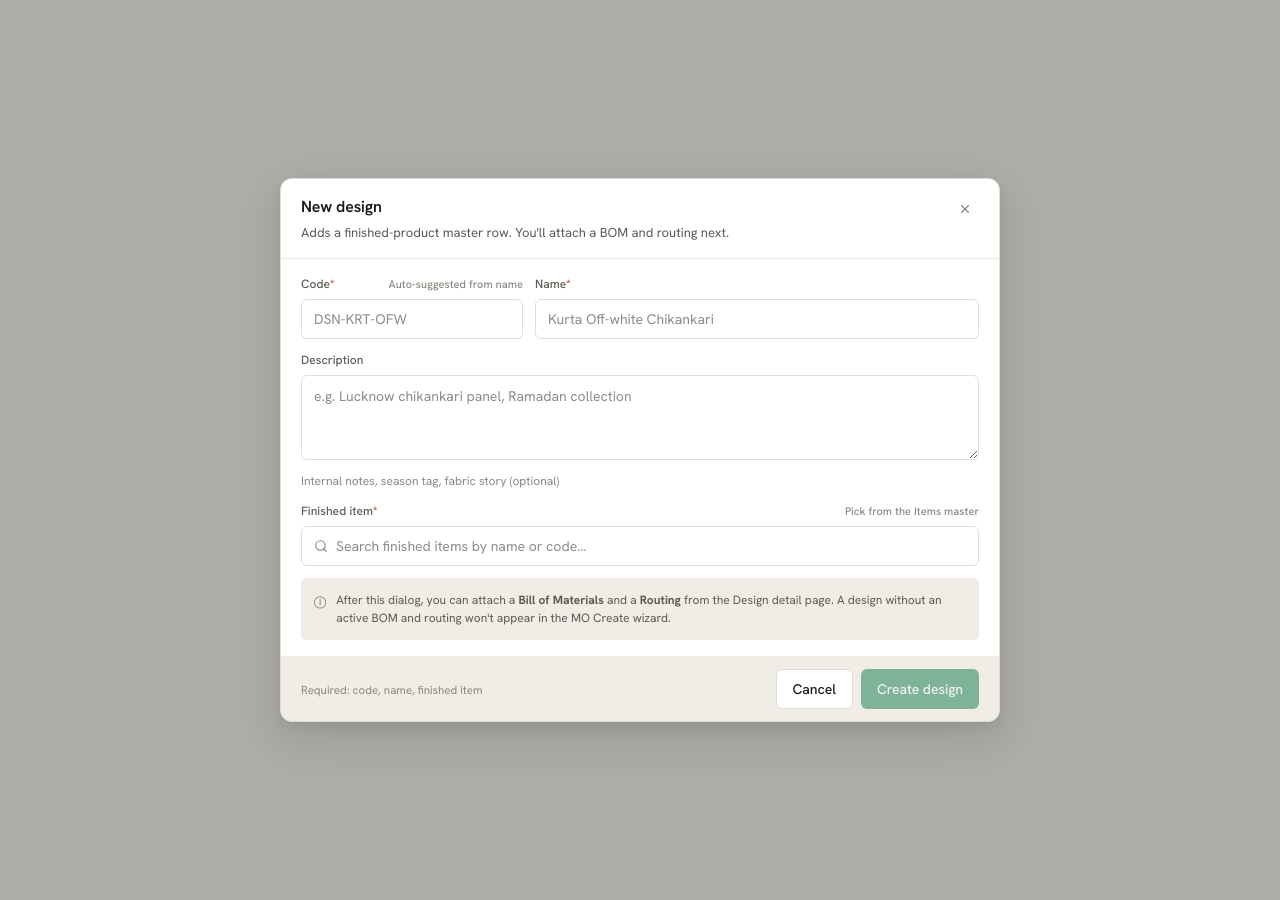
Test: NewDesignDialog (live-mode, TASK-TR-E1) › Submit is disabled by default and code auto-derives from name
Expected: the button "Create design" is disabled, left=861, top=669, right=979, bottom=709
Type "Anarkali Pink" into the field labelled "Name*".
click(757, 319); type("Anarkali Pink")  # box left=536, top=309, right=978, bottom=330
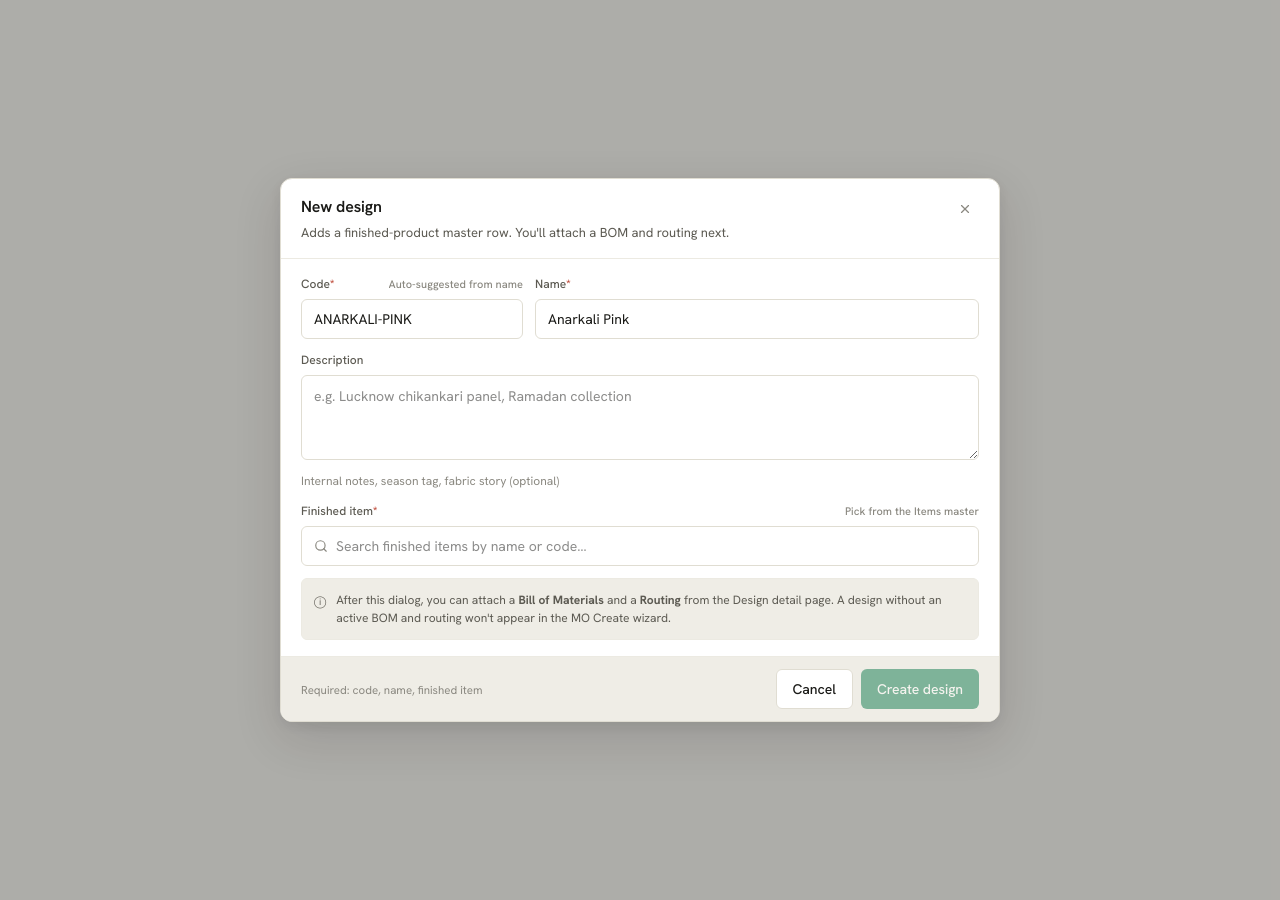
Now the field labelled "Code* Auto-suggested from name" holds "ANARKALI-PINK", box left=302, top=309, right=522, bottom=330
